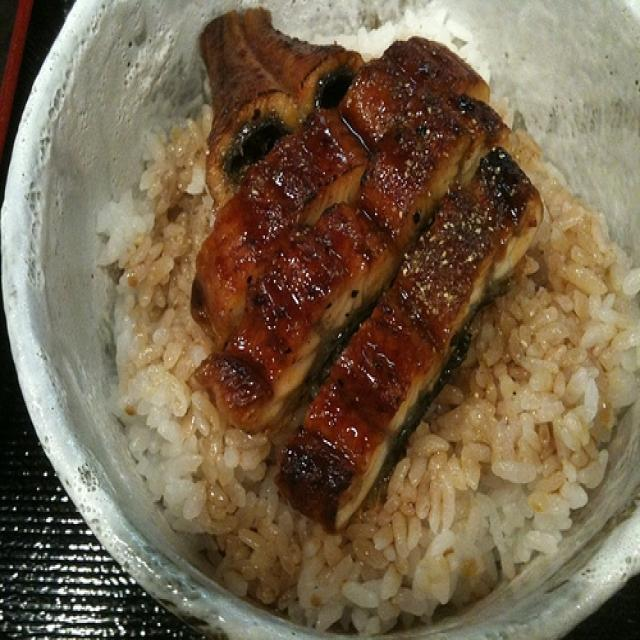熟制海鲜: (54, 7, 634, 626)
